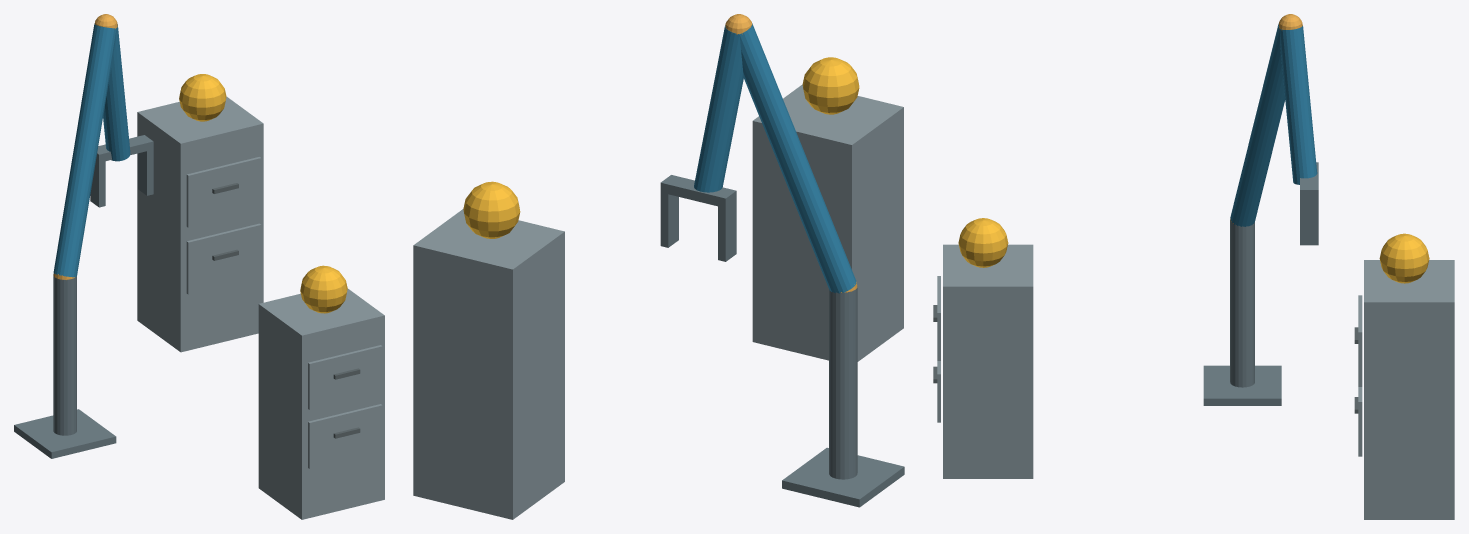
The picture shows the model from 3 angles, left to right: view 1: azimuth 30°, elevation 25°; view 2: azimuth 150°, elevation 25°; view 3: azimuth 270°, elevation 25°; orthographic projection. The views are drawn at different scales.
Visible parts, largest first — view 1: cabinet_2 body, cabinet_1 body, moving link 1, cabinet_2 drawer front, cabinet_2 drawer front.001, fixed post, cabinet_1 drawer front, cabinet_1 drawer front.001, pedestal, moving link 2, released ball_1, ball ball_2 (+3 smaller); view 2: cabinet_2 body, cabinet_1 body, moving link 1, fixed post, moving link 2, pedestal, released ball_1, ball ball_2, gripper bridge, gripper finger -1, gripper finger 1; view 3: cabinet_2 body, cabinet_1 body, moving link 1, fixed post, moving link 2, pedestal, ball ball_2, released ball_1, gripper finger 1.
Part boxes in pixels (x1,y1,x2,y2): cabinet_2 body: (137, 96, 263, 352); cabinet_1 body: (258, 288, 384, 519); moving link 1: (53, 24, 116, 277); cabinet_2 drawer front: (186, 223, 261, 294); cabinet_2 drawer front.001: (186, 157, 261, 227); fixed post: (53, 274, 76, 435); cabinet_1 drawer front: (308, 404, 382, 468); cabinet_1 drawer front.001: (308, 345, 382, 409); pedestal: (14, 409, 116, 458); moving link 2: (103, 24, 130, 161); released ball_1: (300, 265, 347, 313); ball ball_2: (179, 74, 226, 121); cabinet_2 body: (413, 209, 564, 519); cabinet_1 body: (752, 84, 903, 361); moving link 1: (739, 23, 856, 293); fixed post: (829, 286, 857, 479); moving link 2: (694, 25, 743, 192); pedestal: (782, 447, 904, 507); released ball_1: (802, 57, 859, 114); ball ball_2: (463, 181, 520, 238); gripper bridge: (660, 175, 736, 208); gripper finger -1: (718, 200, 736, 261); gripper finger 1: (660, 192, 678, 247); cabinet_2 body: (1364, 260, 1454, 519); cabinet_1 body: (943, 244, 1033, 478); moving link 1: (1230, 23, 1285, 226); fixed post: (1230, 220, 1254, 387); moving link 2: (1280, 26, 1317, 184); pedestal: (1203, 365, 1281, 405); ball ball_2: (1379, 233, 1429, 283); released ball_1: (958, 218, 1008, 267); gripper finger 1: (1300, 198, 1318, 245).
Size of the model in its own units: 1.12 by 1.44 by 1.67.
